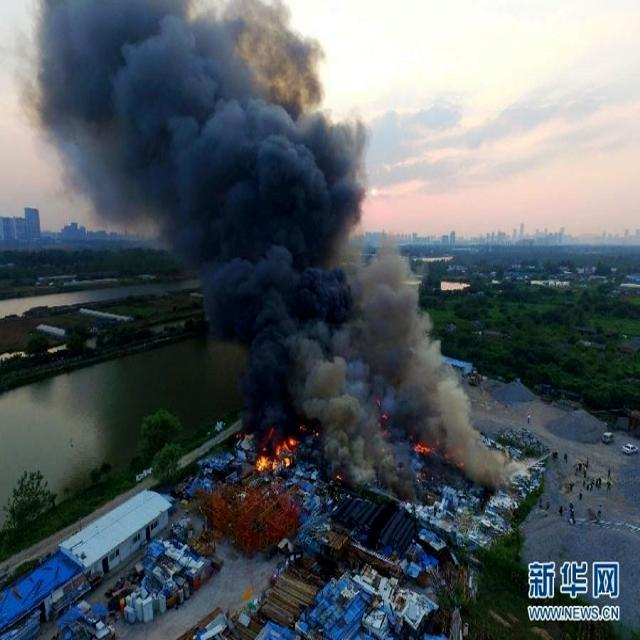Fire: (251, 410, 316, 476), (408, 430, 468, 470)
Smoke: (37, 0, 490, 469), (39, 2, 438, 399)
